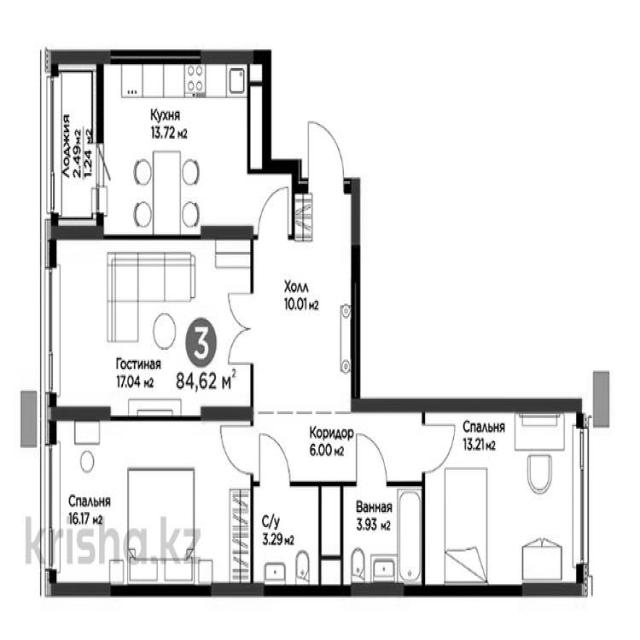balcony: (50, 58, 99, 232)
bathroom: (343, 482, 423, 592), (254, 484, 320, 590)
hallway: (255, 171, 422, 482)
kitchen: (100, 62, 264, 232)
living_room: (48, 236, 252, 414), (47, 419, 252, 593), (424, 408, 583, 588)
